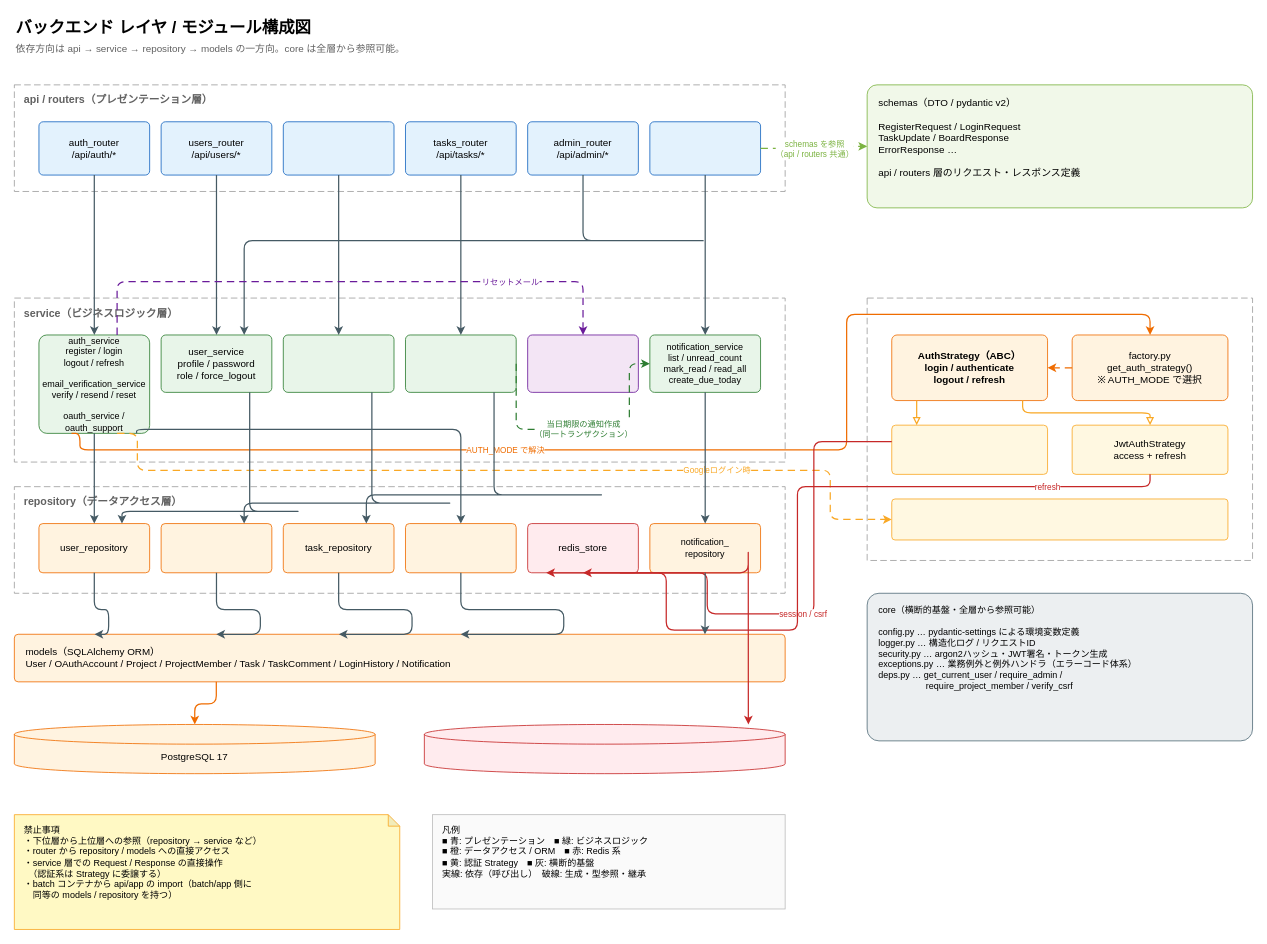
This 1267x944 diagram has some shape labels left out. Each missing label, with the box of its shape:
auth（認証 Strategy）: (866, 297, 1253, 560)
GoogleOAuthProvider 認可URL / code交換 / userinfo: (891, 498, 1228, 540)
login_history_ repository: (405, 523, 516, 573)
mail_service SMTP送信: (527, 334, 638, 392)
notifications_router /api/notifications/*: (649, 121, 761, 175)
project_repository: (160, 523, 272, 573)
project_service CRUD / member: (282, 334, 394, 392)
projects_router /api/projects/*: (282, 121, 394, 175)
Redis 8（TTL失効）: (424, 724, 785, 774)
SessionAuthStrategy Cookie + Redis session: (891, 424, 1048, 474)
task_service board / task / comment: (405, 334, 516, 392)
